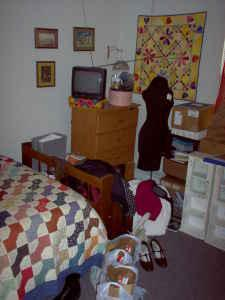Cama: (4, 148, 111, 297)
